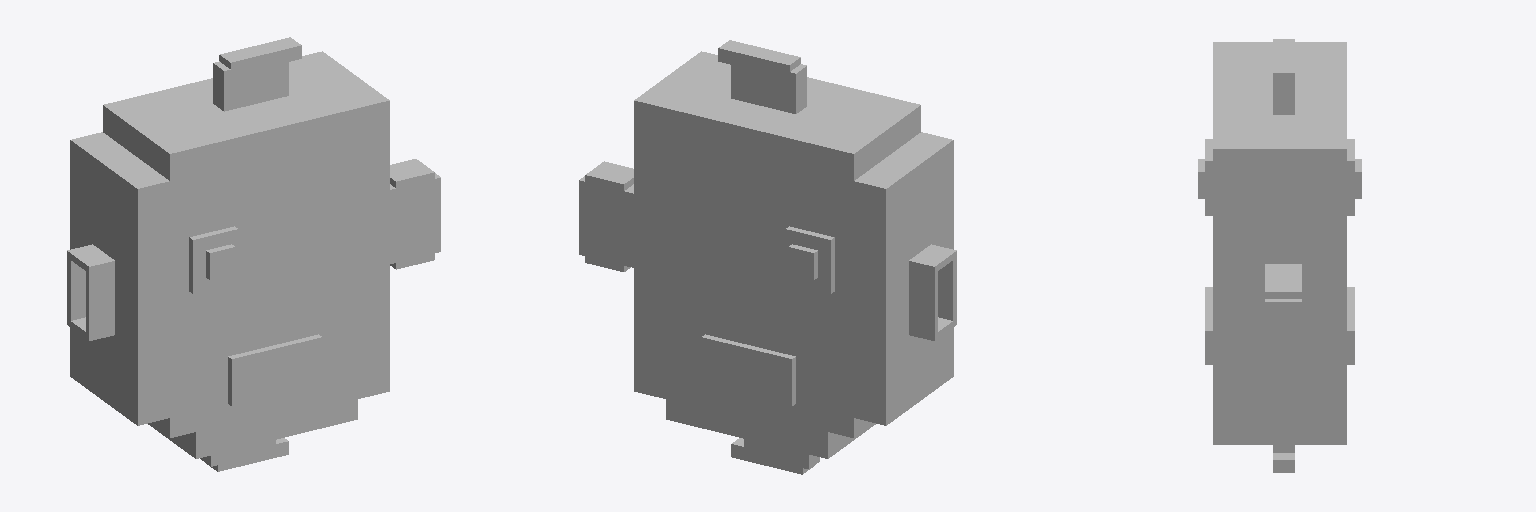
File: fish.obj
3 views of the same model, side by side, from view 1: azimuth 30°, elevation 25°; view 2: azimuth 150°, elevation 25°; view 3: azimuth 270°, elevation 25° (orthographic).
Bounding box in the file's own units: 55 × 60 × 22.